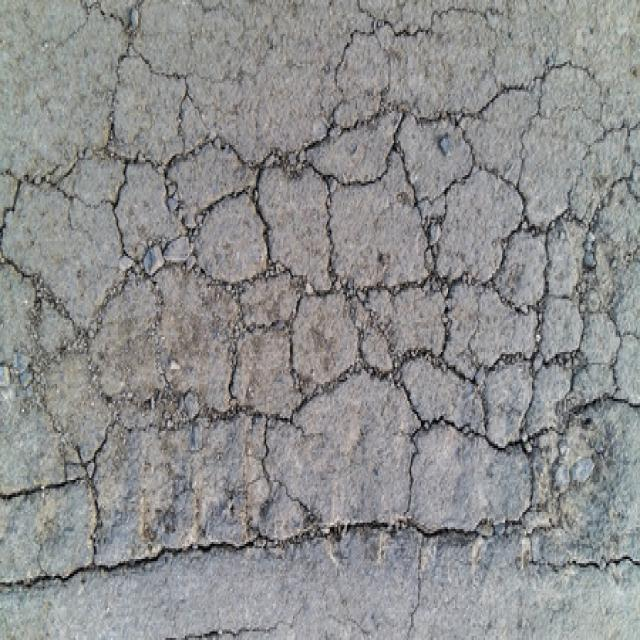Drain Hole: (38, 138, 637, 528)
